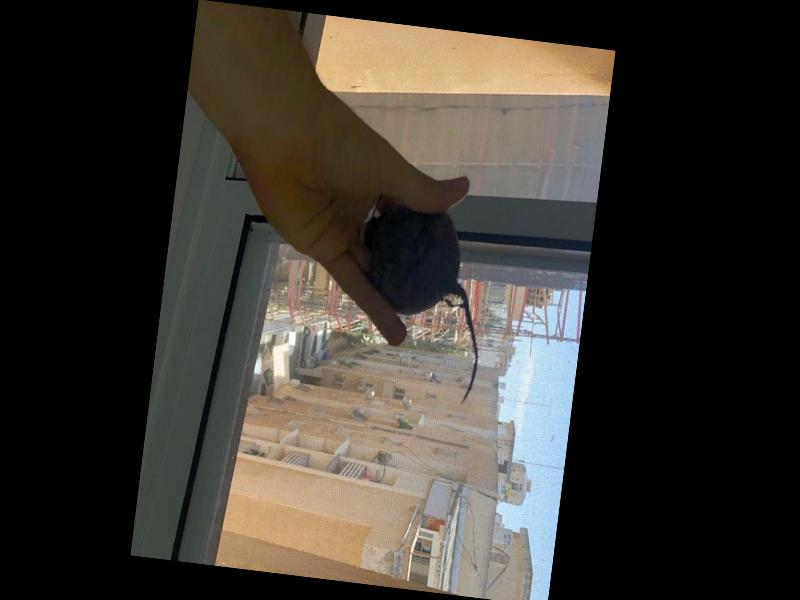Beet: (345, 203, 496, 406)
